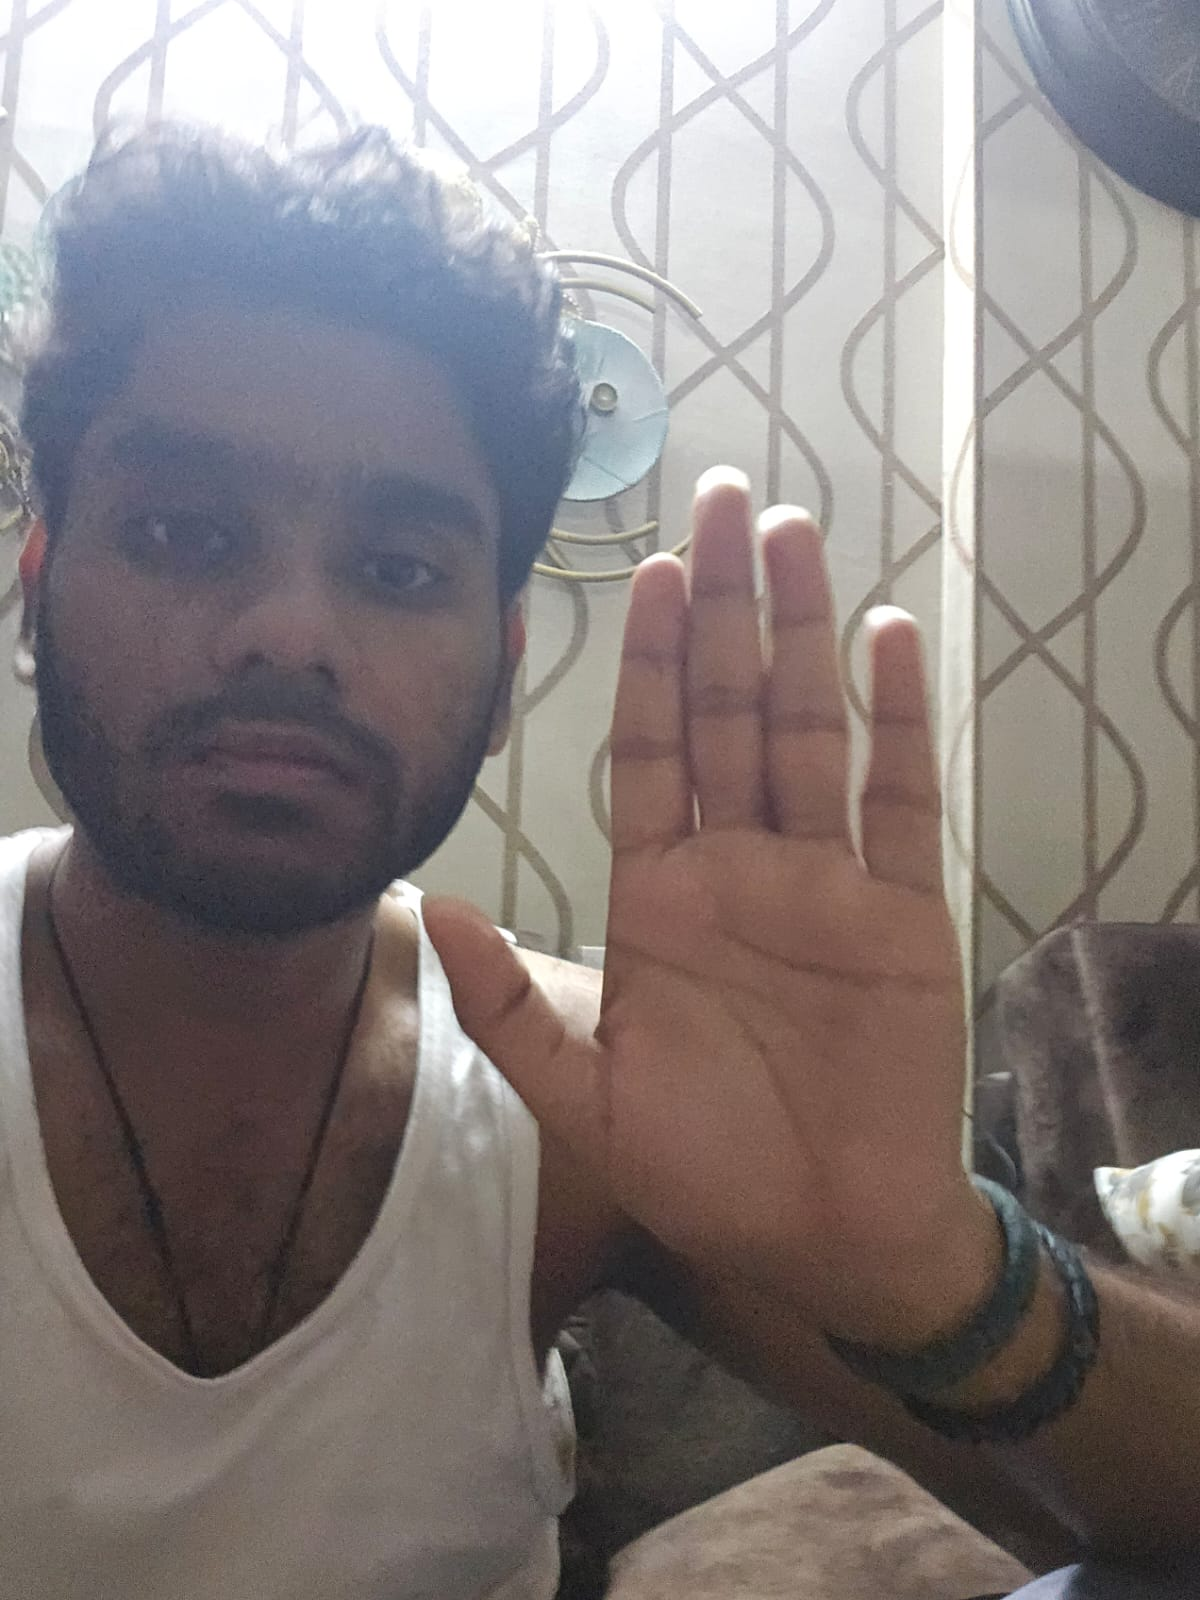hello: (421, 462, 971, 1306)
